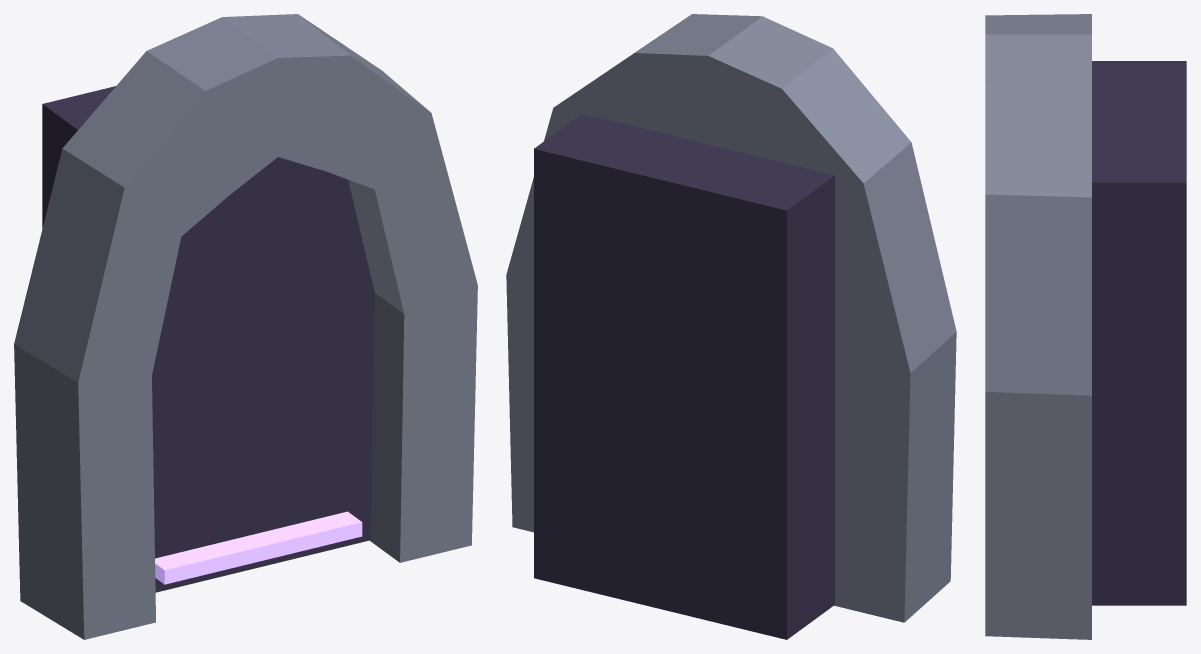
The model's file is Stage_05b_妖洞通关石门_开.glb.
3 renders of one model, left to right at view 1: azimuth 30°, elevation 25°; view 2: azimuth 150°, elevation 25°; view 3: azimuth 270°, elevation 25°, orthographic. The views are drawn at different scales.
Visible parts, largest first — view 1: DungeonArchway, Cube, Cube.001; view 2: Cube, DungeonArchway; view 3: DungeonArchway, Cube.
Part boxes in pixels (x1,y1,x2,y2): DungeonArchway: [14, 14, 477, 639]; Cube: [42, 86, 374, 592]; Cube.001: [155, 511, 362, 584]; Cube: [534, 114, 834, 639]; DungeonArchway: [506, 14, 956, 622]; DungeonArchway: [985, 14, 1091, 639]; Cube: [1092, 61, 1186, 605].
Bounding box in the file's own units: 3.96 × 4.86 × 1.73.
